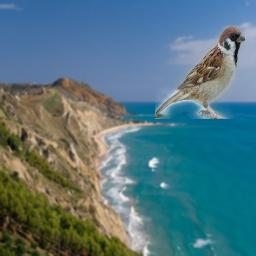Sparrow: (155, 25, 245, 119)
